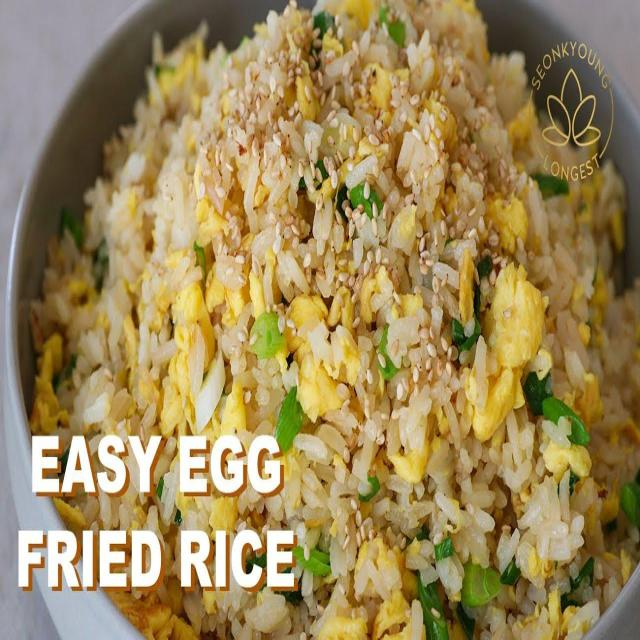Nasi Goreng: (23, 1, 635, 636)
